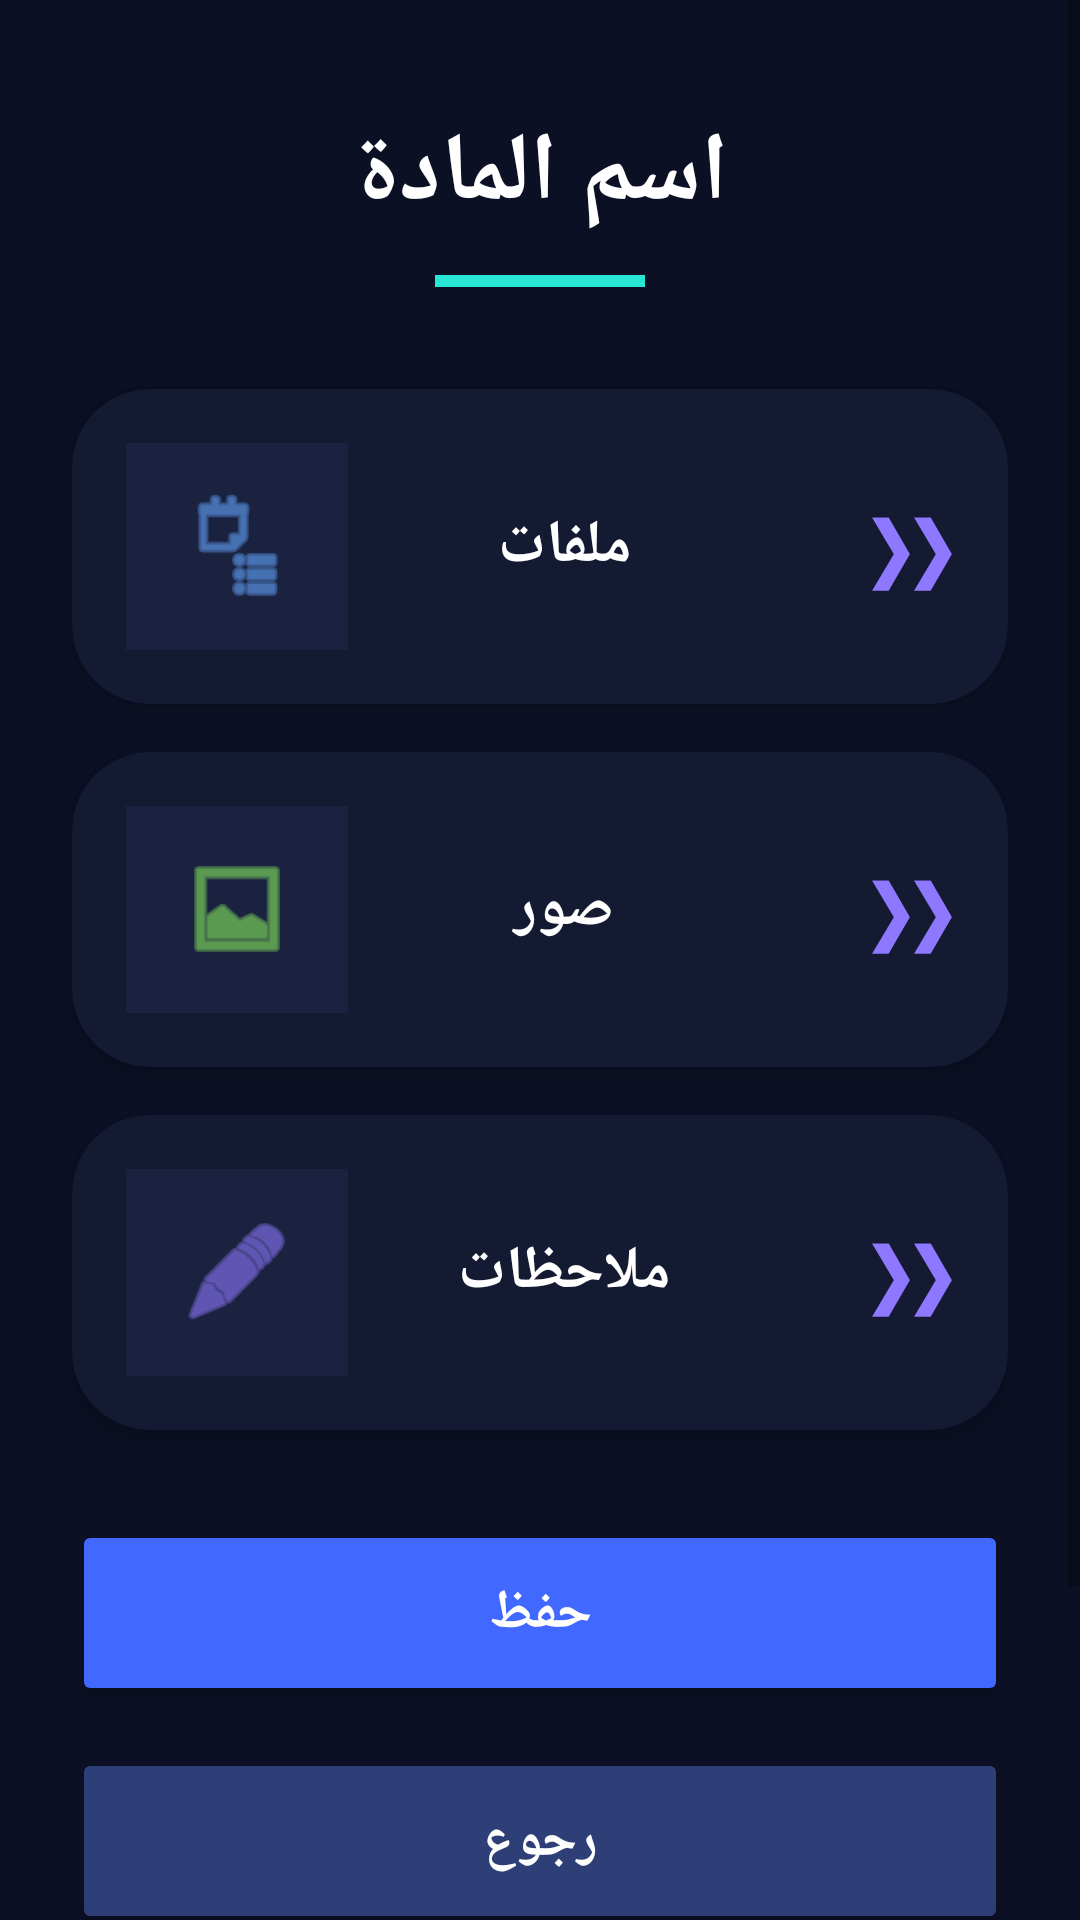

Icon click points for this 1080 × 1920 phone screenshot, format point (x, y):
agenda: point (238, 545)
edit: point (236, 1271)
gallery: point (237, 909)
